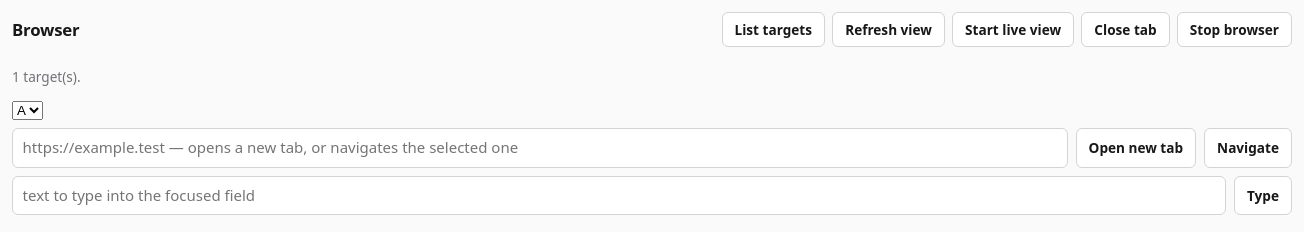
Test: BrowserPane › says a transport failure never reached the device
Check: the text "1 target(s)." is shown, box [12,67,81,86]
Replace the text in the field named "Address" with "https://b.test" at (540, 148), box [12,128,1068,168]
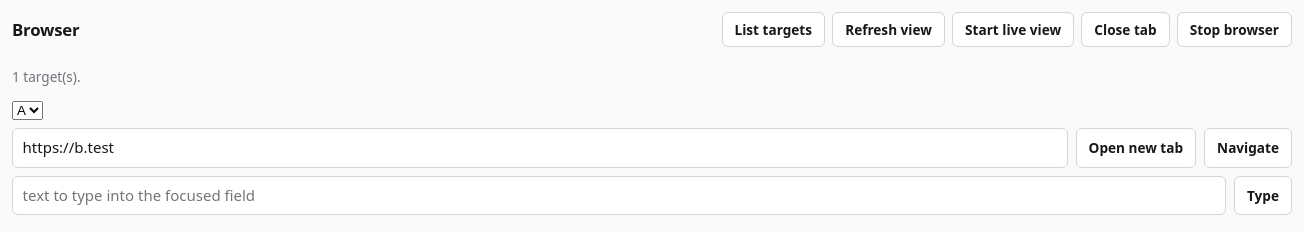
Click the button "Navigate".
click(1248, 148)  # box [1204,128,1292,168]
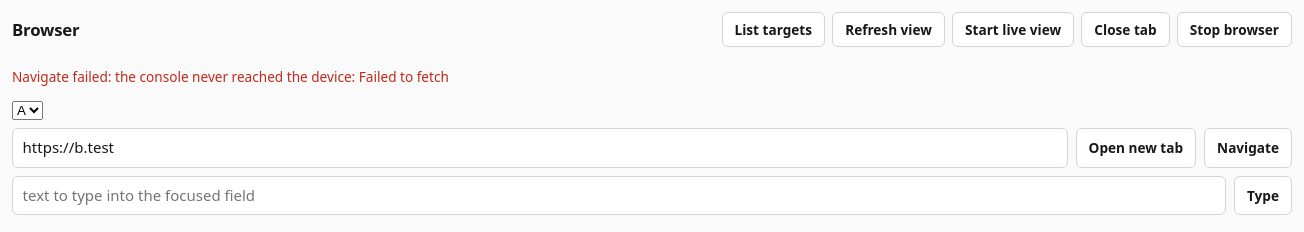
Check: the text "Navigate failed: the console never reached the device" shows "Failed to fetch", box [12,67,449,86]
